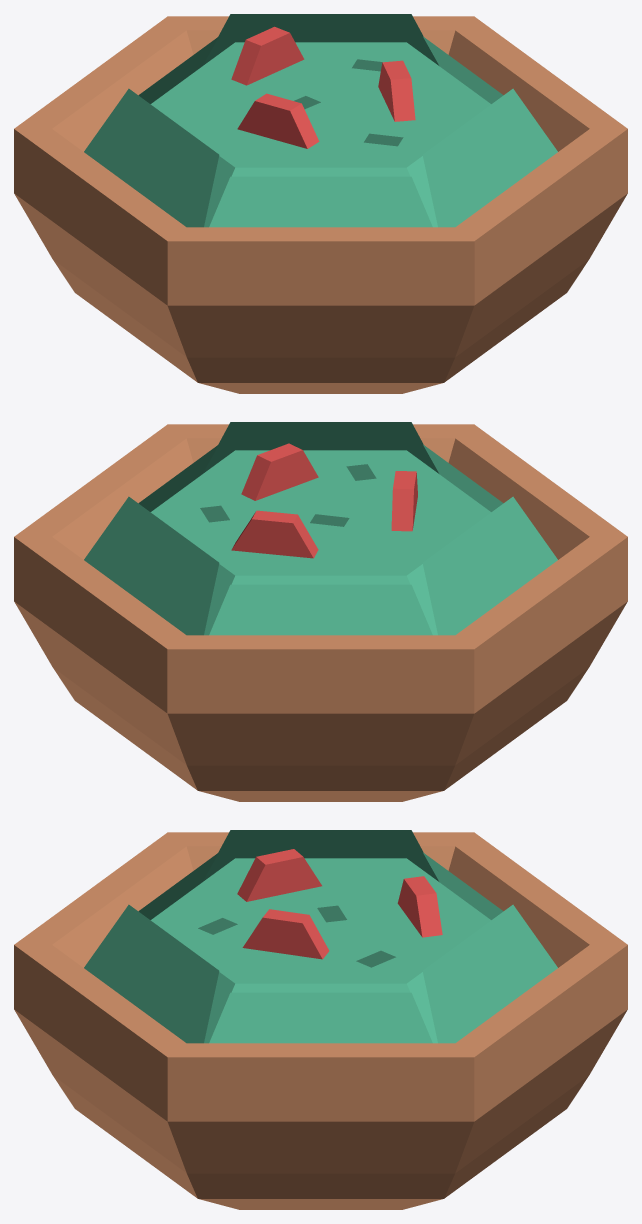
Rendered from salad.obj.
The picture shows the model from 3 angles, top to bottom: view 1: azimuth 30°, elevation 25°; view 2: azimuth 150°, elevation 25°; view 3: azimuth 270°, elevation 25°; orthographic projection.
Parts seen in each view (by area): view 1: salad; view 2: salad; view 3: salad.
Part boxes in pixels (<box>): salad: <box>14,14,627,393</box>; salad: <box>14,422,627,801</box>; salad: <box>14,830,627,1209</box>.
Size of the model in its own units: 0.5022 by 0.2734 by 0.5798.
